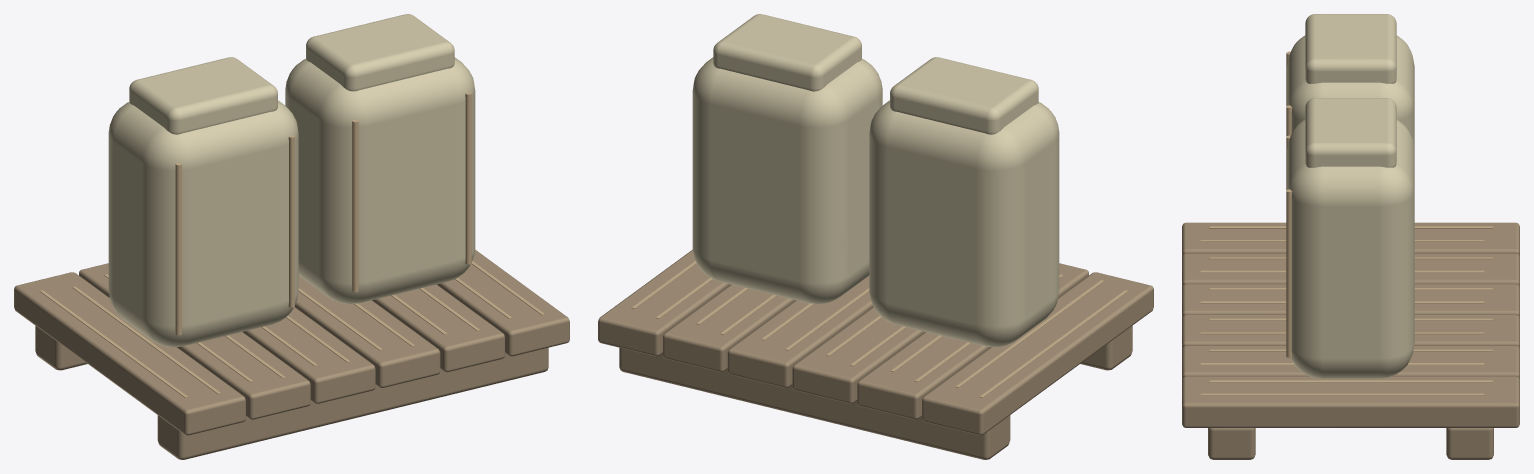
The model's file is coastal-saltworks-and-trade-port-coastal-saltworks-and-e6a8ae16__31397.glb.
The picture shows the model from 3 angles, left to right: view 1: azimuth 30°, elevation 25°; view 2: azimuth 150°, elevation 25°; view 3: azimuth 270°, elevation 25°; orthographic projection. The views are drawn at different scales.
Visible parts, largest first — view 1: coastal-saltworks-and-trade-port-filled-sack-pallet; view 2: coastal-saltworks-and-trade-port-filled-sack-pallet; view 3: coastal-saltworks-and-trade-port-filled-sack-pallet.
Part boxes in pixels (x1=…): coastal-saltworks-and-trade-port-filled-sack-pallet: x1=14, y1=14, x2=569, y2=459; coastal-saltworks-and-trade-port-filled-sack-pallet: x1=598, y1=14, x2=1153, y2=459; coastal-saltworks-and-trade-port-filled-sack-pallet: x1=1182, y1=14, x2=1519, y2=459.
Bounding box in the file's own units: 1.09 × 0.82 × 0.8501.
